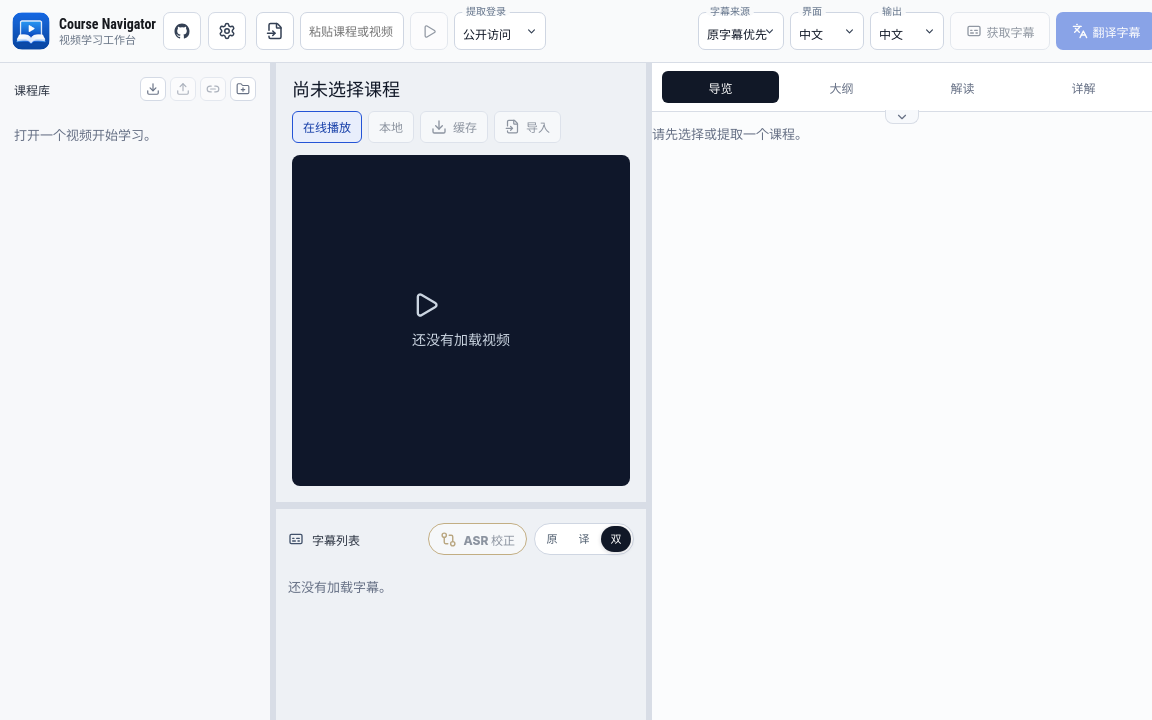
Scenario: App language defaults › saves pasted cookie text and fills the cookie file path
This screenshot has width=1152, height=720.
Expected: the button "翻译字幕" is shown, [1056,12,1151,50]
Select "Cookies 文件" in the dropdown labelled "提取登录": (500,31) [454,12,546,50]
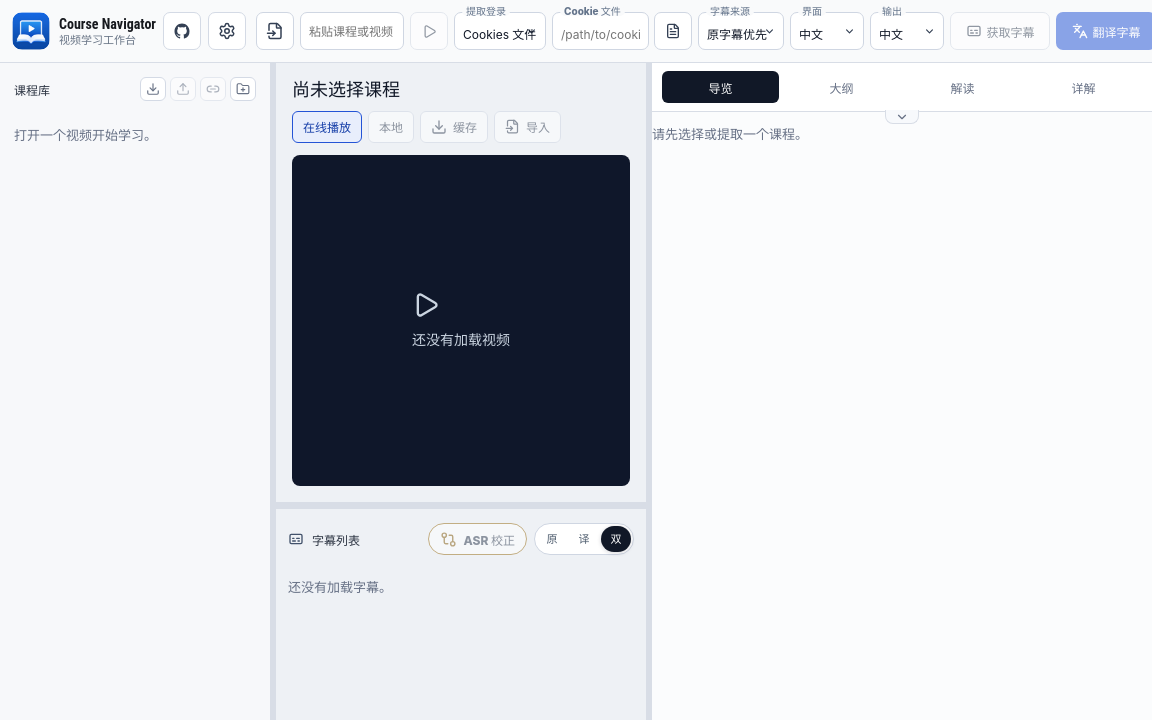
Click the button named "填写 Cookie": (673,31) [654,12,692,50]
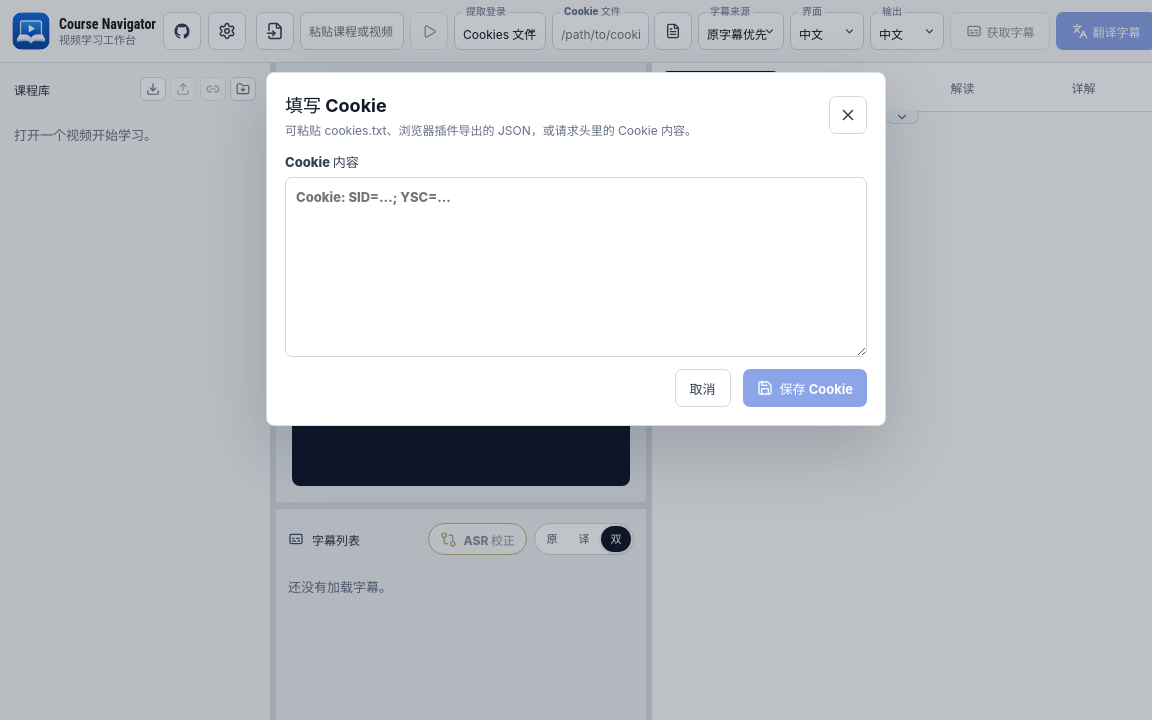
In the text box labelled "Cookie 内容": (576,267) [285,177,867,357], type "Cookie: SID=one"
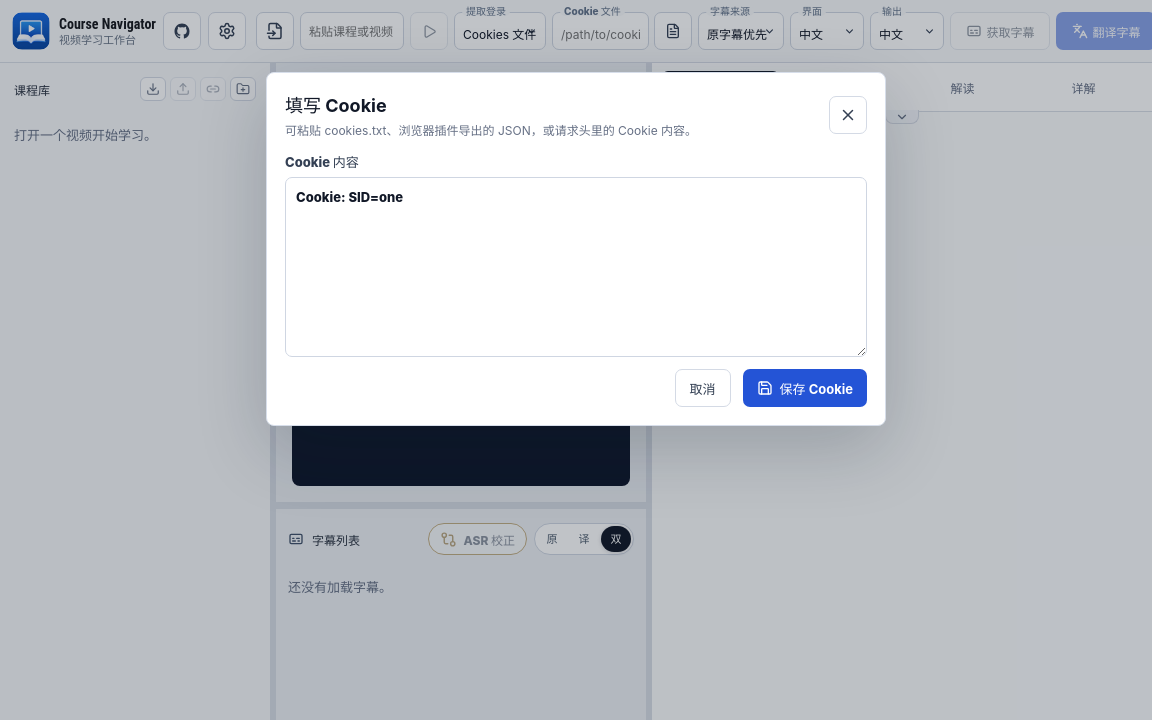
Click the button "保存 Cookie": (805,388) [742,369,867,407]
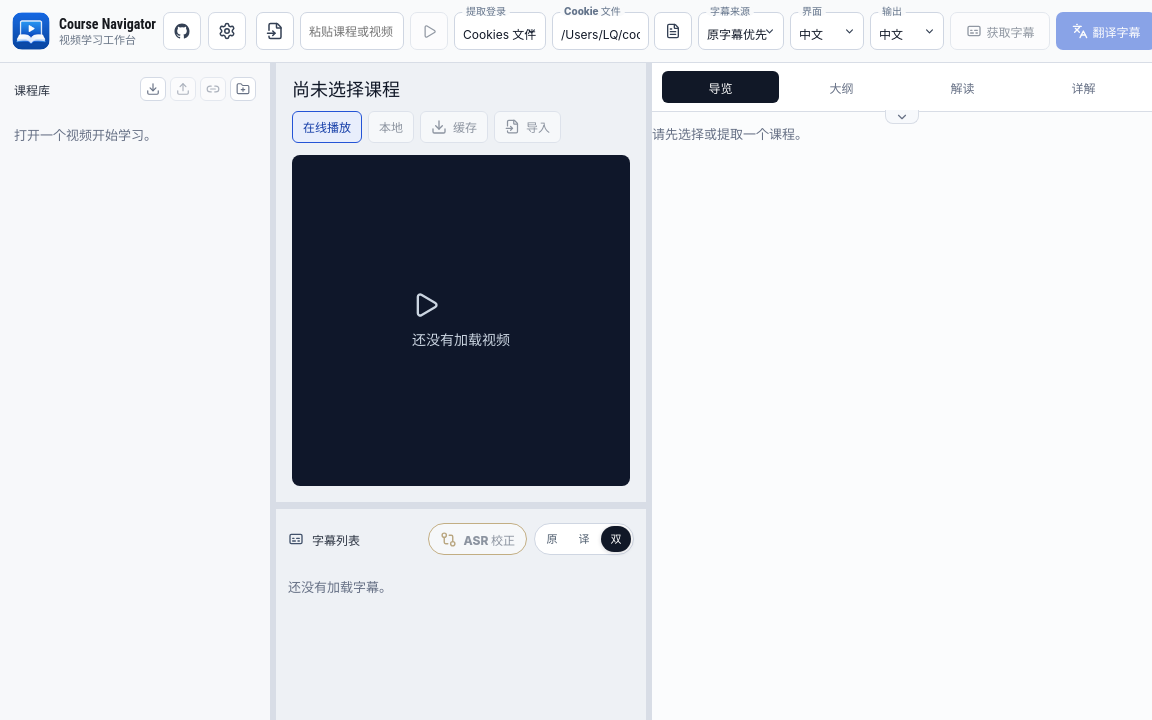
Now the field showing "/Users/LQ/cookies/manual.cookies.txt" is shown, box [552,12,649,50]
